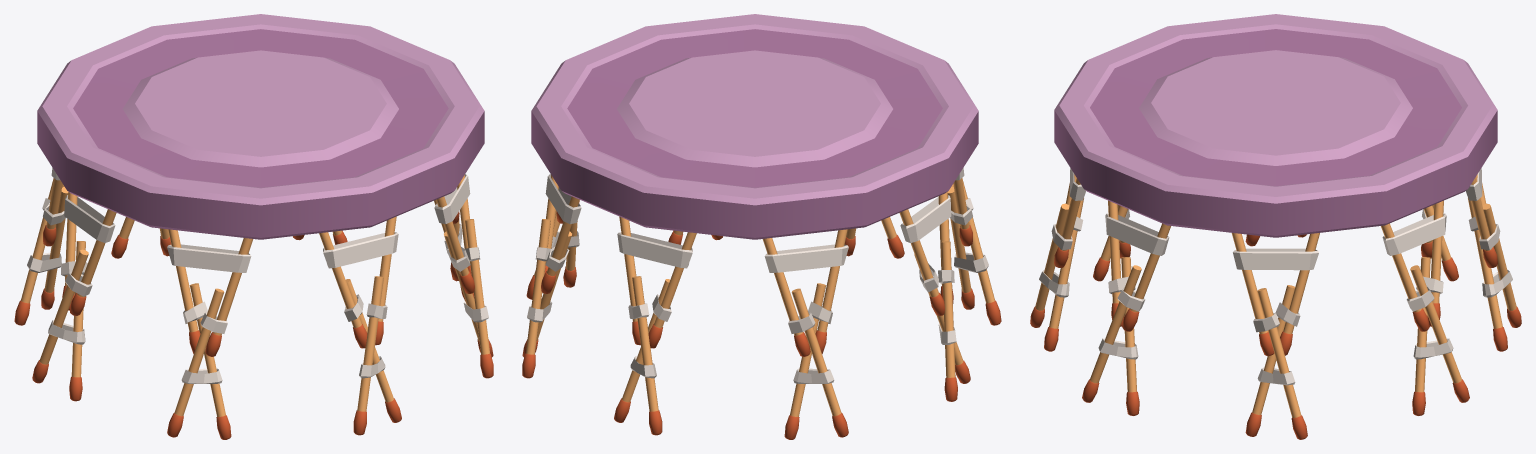
Rendered from DinnerTable.fbx.
3 views of the same model, side by side, from view 1: azimuth 30°, elevation 25°; view 2: azimuth 150°, elevation 25°; view 3: azimuth 270°, elevation 25° (orthographic).
Visible parts, largest first — view 1: DinnerTable; view 2: DinnerTable; view 3: DinnerTable.
Boxes of the visible parts, <box> form: DinnerTable: <box>14,14,493,439</box>; DinnerTable: <box>522,14,1001,439</box>; DinnerTable: <box>1030,14,1521,439</box>.
Size of the model in its own units: 2.51 by 1.34 by 2.51.
